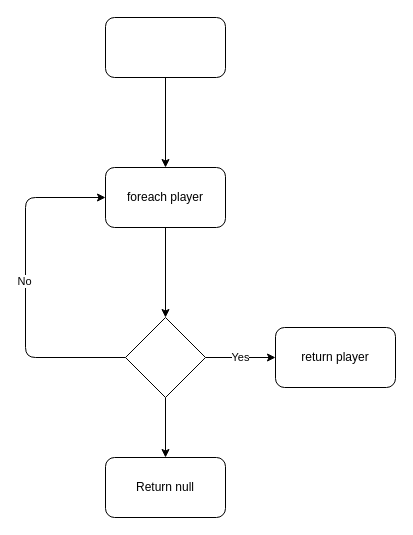
Some shapes in this 413 by 535 pixel diagram are drawn without their labels. The shapes that lost their labels are listed below. From the top down, each one's centre as x and y in pixels, then its label:
pixel 165 47: Start
pixel 165 357: player has number?
